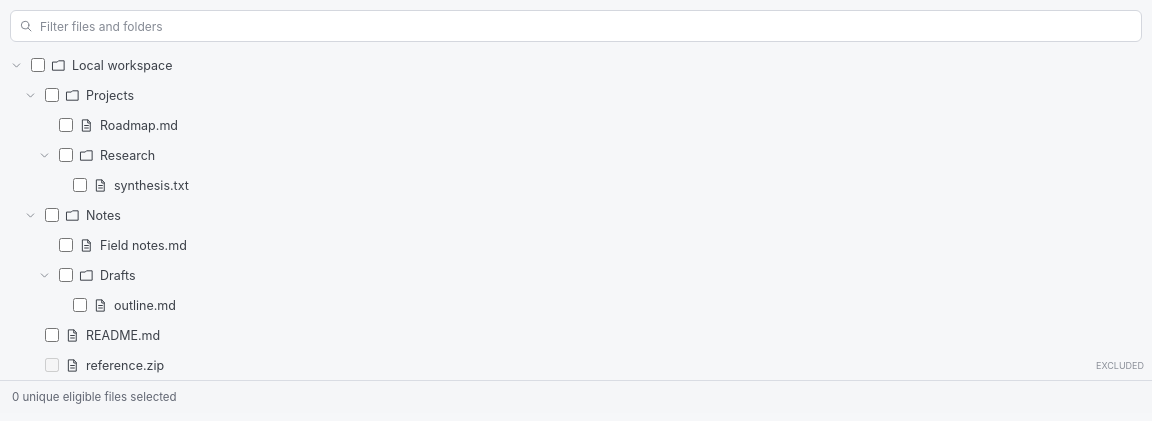
Test case: SourceTree › shows a clear empty result without removing the selection summary
Step 1. Type "no-such-source" into the search field named "Search sources" → coordinates (576, 26), box [10,10,1142,42]
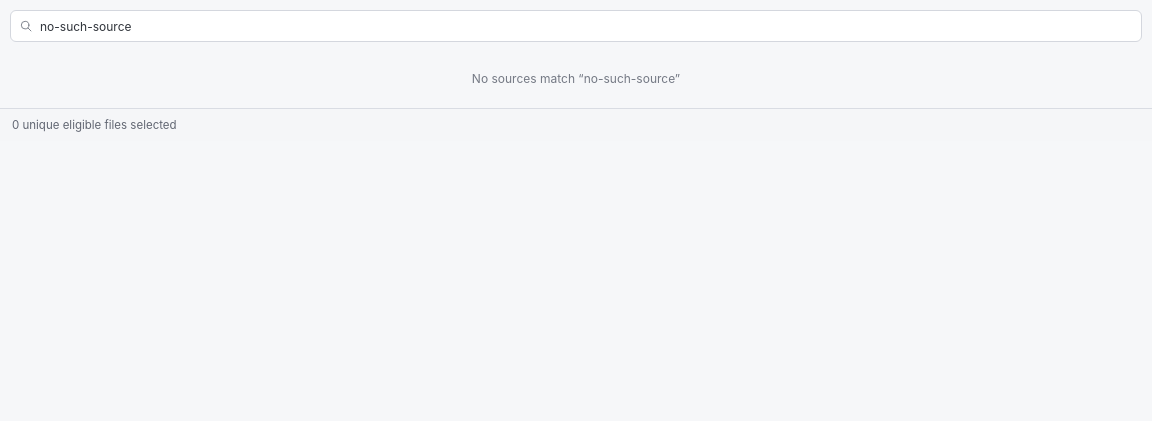
Expected: the text "0 unique eligible files selected" is shown, [0,108,1151,141]
Expected: the message named "Source filter status" shows "No sources match", [472,71,680,86]
